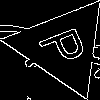P: (37, 21, 97, 70)
